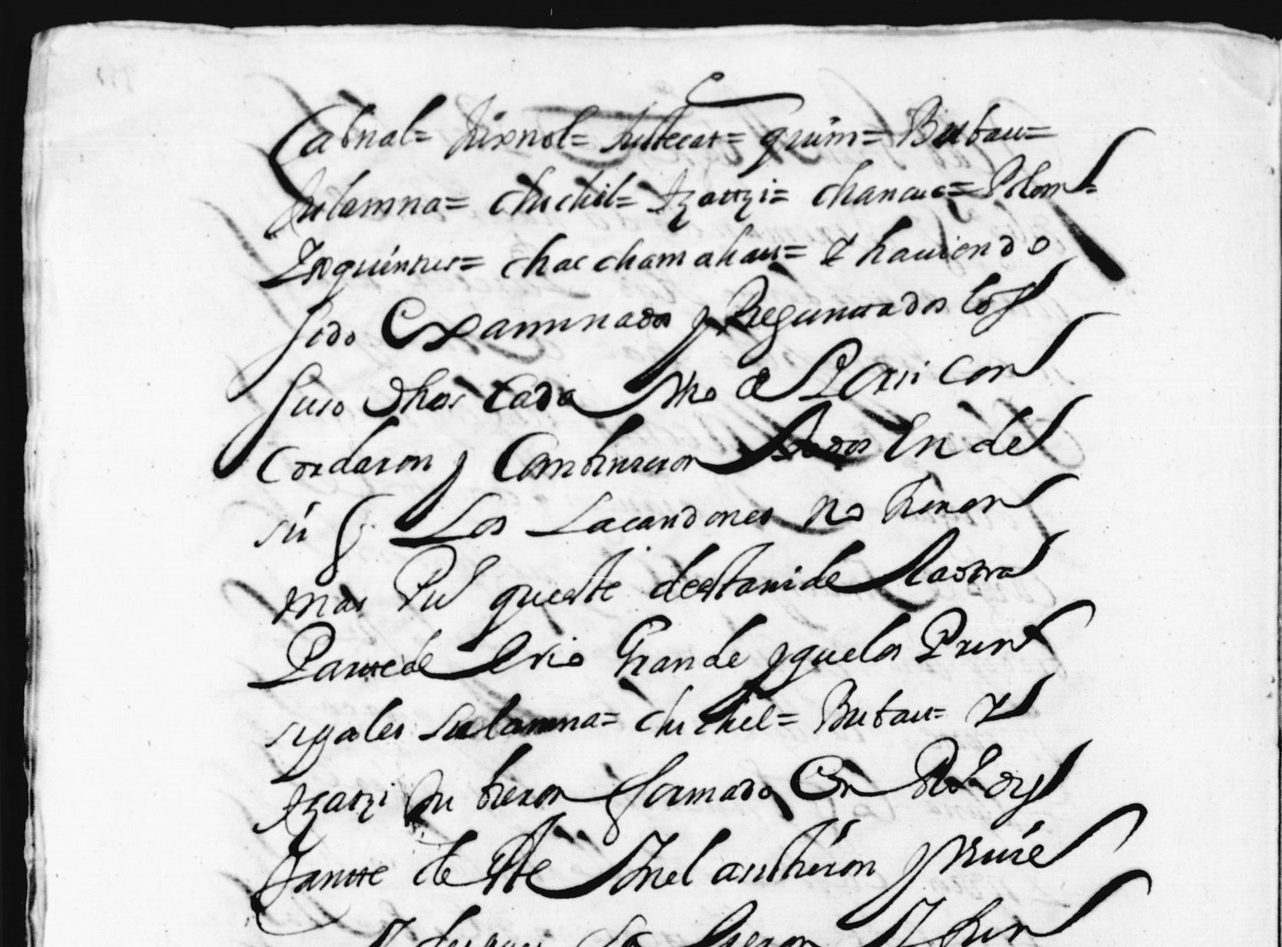lacandon: (525, 491, 773, 537)
